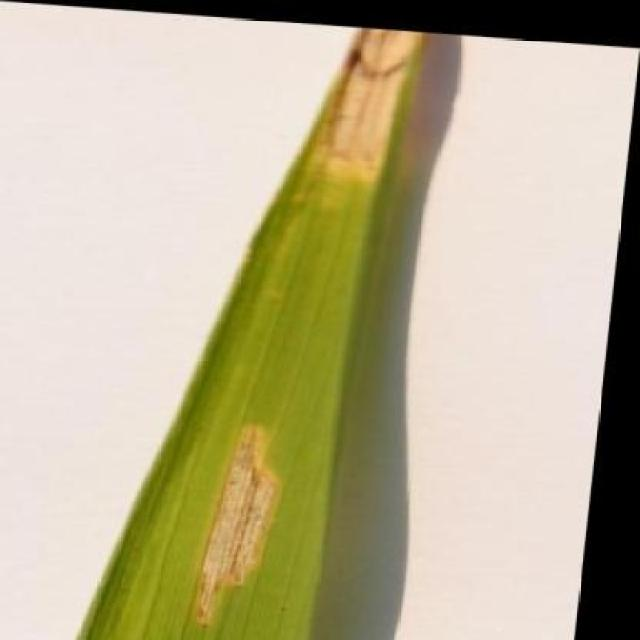Brown_Spot: (82, 7, 435, 640)
